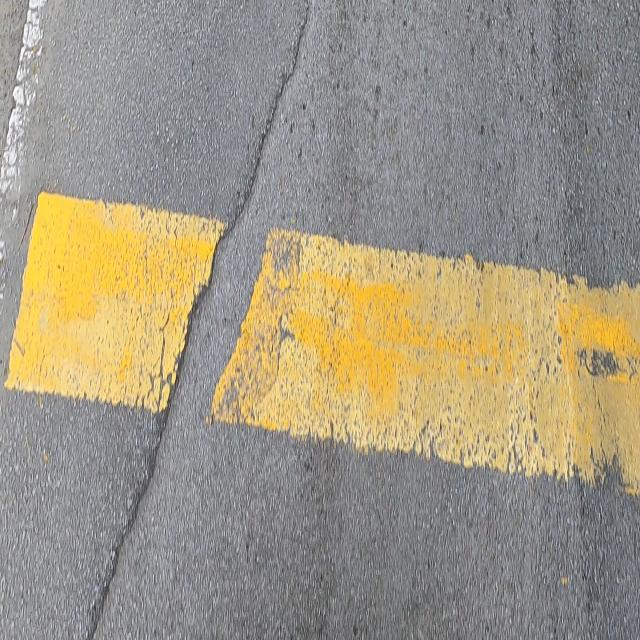Retak-Memanjang: (86, 2, 313, 640)
